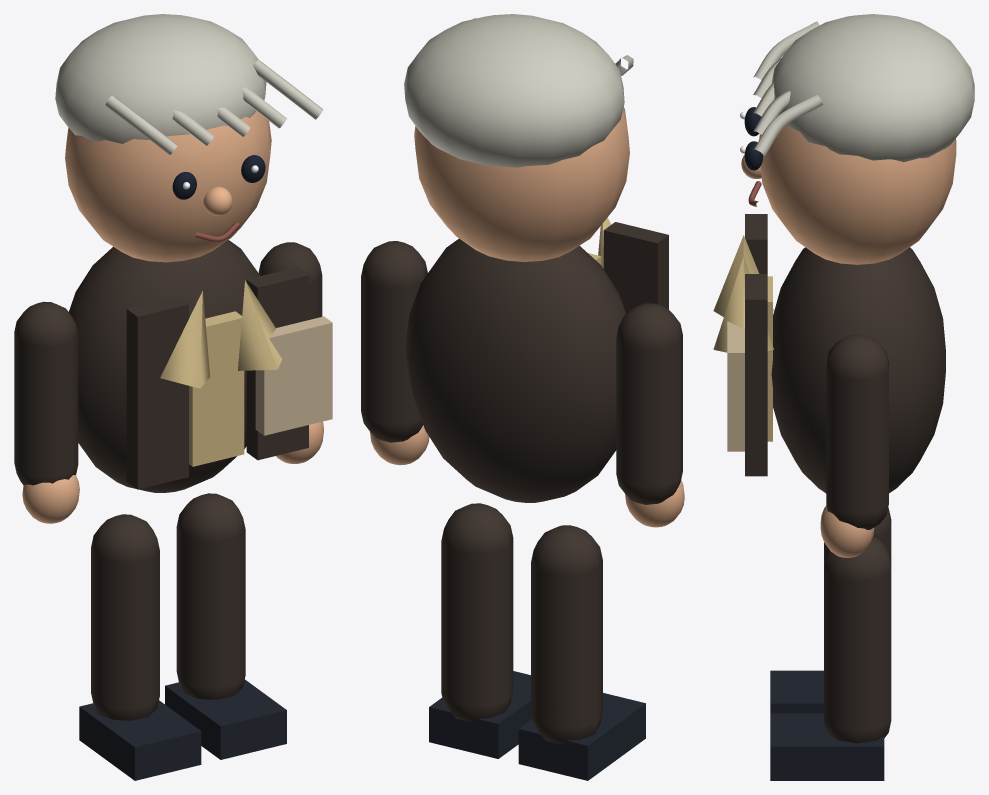
File: profile-mark.glb
3 renders of one model, left to right at view 1: azimuth 30°, elevation 25°; view 2: azimuth 150°, elevation 25°; view 3: azimuth 270°, elevation 25°, orthographic. The views are drawn at different scales.
Visible parts, largest first — view 1: hair-crown, face, tailored-torso, jacket-panel (×2), right-leg-mesh, left-leg-mesh, left-sleeve, research-notebook, shirt-panel, left-shoe, right-shoe, lapel (×2) (+8 smaller); view 2: tailored-torso, hair-crown, face, right-leg-mesh, left-leg-mesh, left-sleeve, right-sleeve, left-shoe, jacket-panel, right-shoe, left-hand-mesh, right-hand-mesh; view 3: tailored-torso, hair-crown, face, right-leg-mesh, right-sleeve, right-shoe, jacket-panel (×2), left-shoe, lapel (×2), research-notebook, right-hand-mesh, hair-strand-4 (+4 smaller).
Boxes of the visible parts, box(x1,y1,x2,y2) form: hair-crown: box(55, 14, 266, 143); face: box(65, 111, 271, 262); tailored-torso: box(69, 240, 260, 492); jacket-panel (×2): box(126, 267, 308, 489); right-leg-mesh: box(176, 493, 245, 699); left-leg-mesh: box(91, 514, 159, 720); left-sleeve: box(14, 301, 78, 485); research-notebook: box(255, 316, 332, 435); shirt-panel: box(189, 311, 244, 466); left-shoe: box(79, 700, 201, 780); right-shoe: box(165, 679, 286, 759); lapel (×2): box(160, 280, 282, 388); tailored-torso: box(405, 238, 625, 502); hair-crown: box(404, 14, 624, 167); face: box(414, 106, 629, 261); right-leg-mesh: box(441, 503, 513, 722); left-leg-mesh: box(531, 525, 602, 744); left-sleeve: box(616, 303, 682, 504); right-sleeve: box(361, 241, 427, 442); left-shoe: box(518, 693, 645, 780); jacket-panel: box(603, 222, 668, 313); right-shoe: box(429, 671, 531, 758); left-hand-mesh: box(625, 480, 684, 527); right-hand-mesh: box(370, 425, 429, 465); tailored-torso: box(771, 247, 945, 493); hair-crown: box(771, 14, 974, 162); face: box(759, 125, 956, 264); right-leg-mesh: box(824, 536, 891, 743); right-sleeve: box(826, 334, 888, 529); right-shoe: box(770, 713, 884, 780); jacket-panel (×2): box(745, 214, 767, 476); left-shoe: box(770, 670, 823, 713); lapel (×2): box(713, 235, 773, 352); research-notebook: box(727, 321, 744, 451); right-hand-mesh: box(820, 505, 874, 557); hair-strand-4: box(753, 94, 823, 155).
Size of the model in its own units: 1.4 by 3.11 by 1.03.
